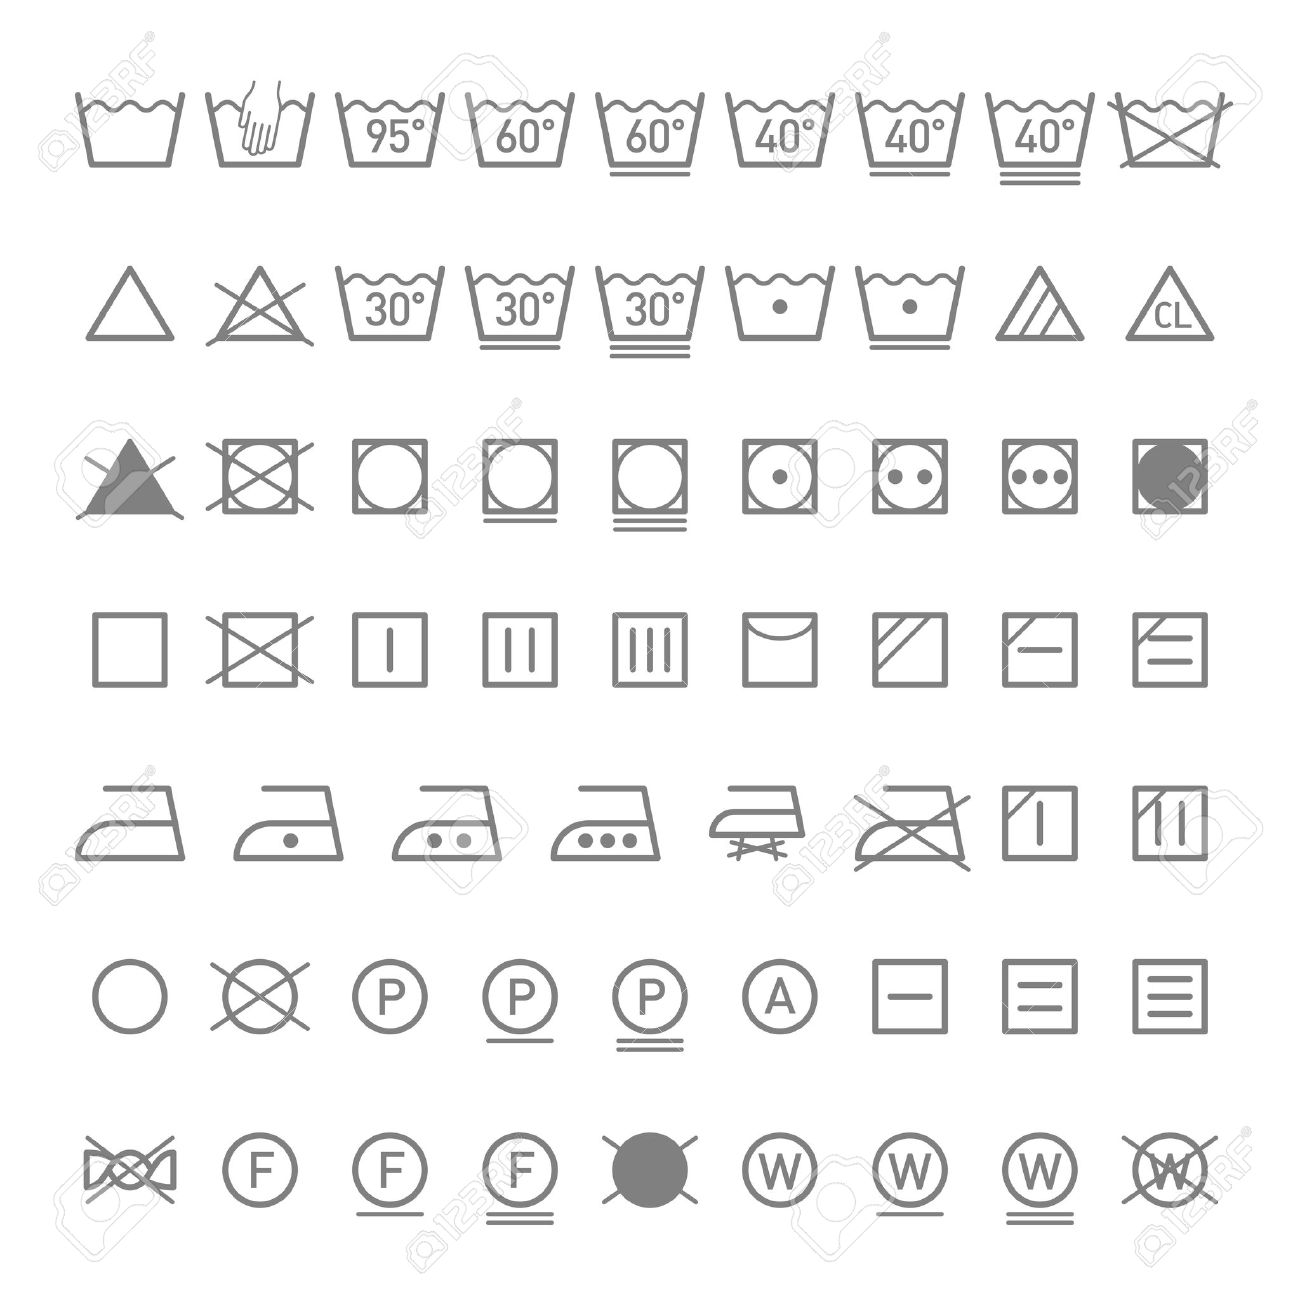do_not_dry_clean: (204, 956, 318, 1038)
do_not_iron: (851, 777, 971, 874)
do_not_wash: (1106, 90, 1229, 174)
